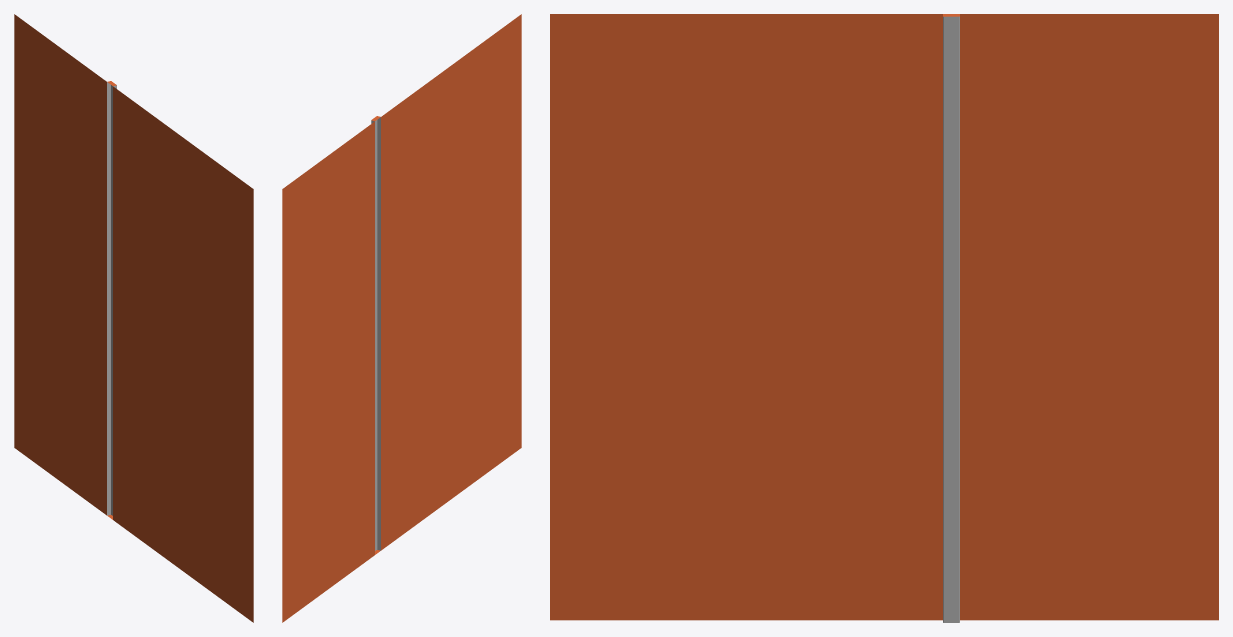
File: wallb.gltf
3 views of the same model, side by side, from view 1: azimuth 30°, elevation 25°; view 2: azimuth 150°, elevation 25°; view 3: azimuth 270°, elevation 25° (orthographic). The views are drawn at different scales.
Visible parts, largest first — view 1: Wall; view 2: Wall; view 3: Wall.
Part boxes in pixels (x1,y1,x2,y2): Wall: (14, 14, 253, 622); Wall: (282, 14, 521, 622); Wall: (550, 14, 1218, 622).
Size of the model in its own units: 0.2666 by 27.14 by 27.14.
